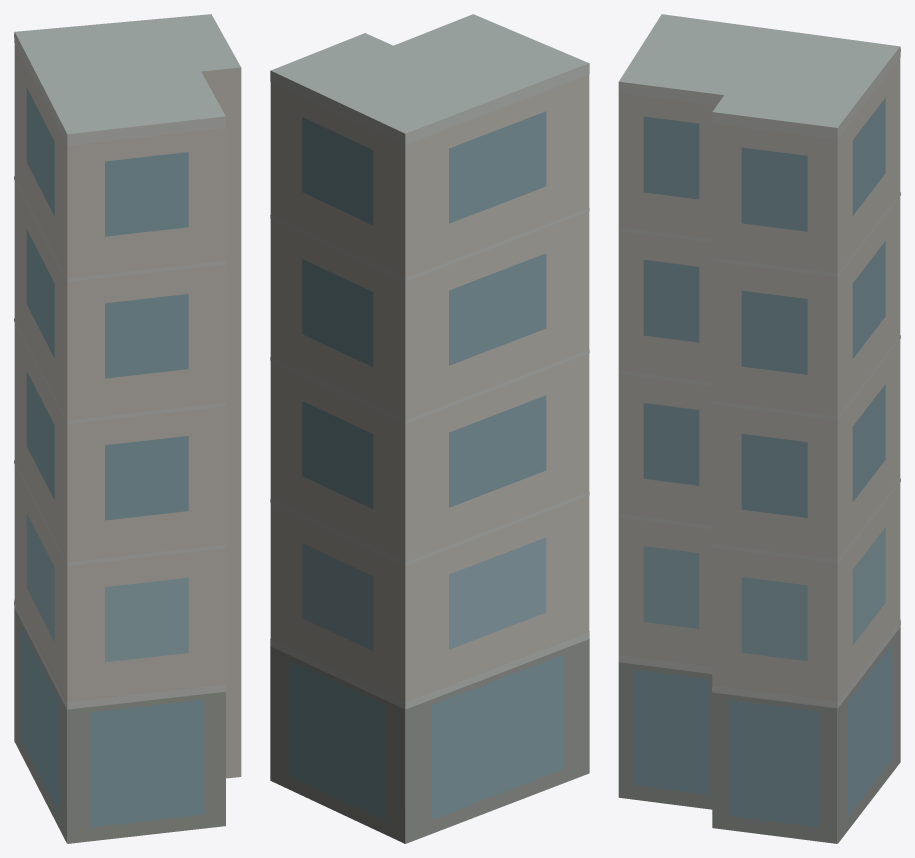
File: survey-upis-32818601.glb
3 renders of one model, left to right at view 1: azimuth 30°, elevation 25°; view 2: azimuth 150°, elevation 25°; view 3: azimuth 270°, elevation 25°, orthographic.
Visible parts, largest first — view 1: survey-upis-32818601.tmp; view 2: survey-upis-32818601.tmp; view 3: survey-upis-32818601.tmp.
Part boxes in pixels (x1,y1,x2,y2): survey-upis-32818601.tmp: [14, 14, 241, 843]; survey-upis-32818601.tmp: [270, 14, 589, 843]; survey-upis-32818601.tmp: [618, 14, 900, 843].
Size of the model in its own units: 5.23 by 15.25 by 5.46.
